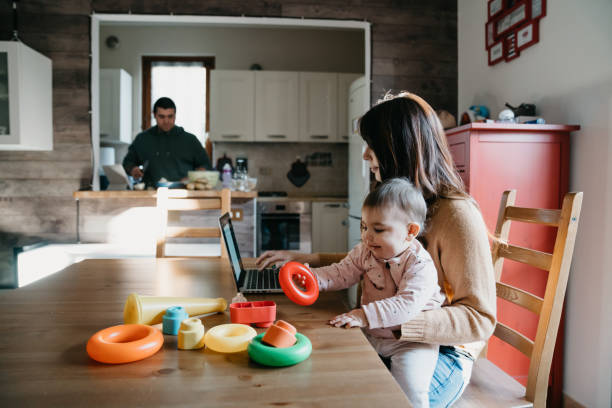without mask: (354, 196, 416, 261), (346, 119, 408, 184), (139, 93, 184, 134)
